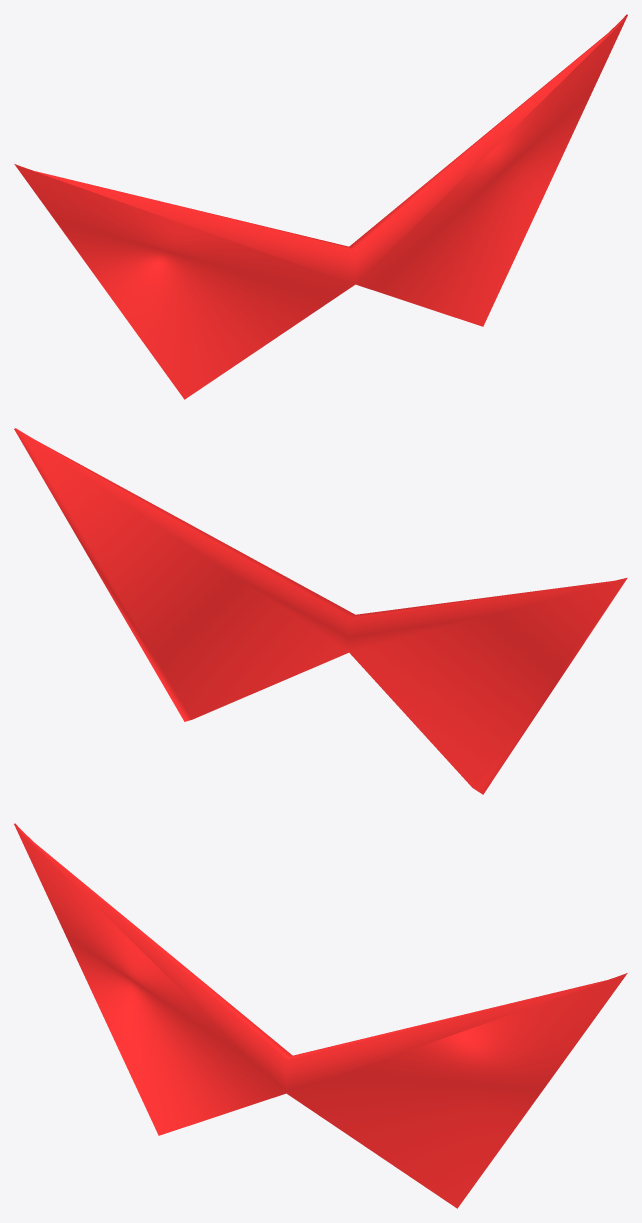
The model's file is accessory-punk_glasses.glb.
The picture shows the model from 3 angles, top to bottom: view 1: azimuth 30°, elevation 25°; view 2: azimuth 150°, elevation 25°; view 3: azimuth 330°, elevation 25°; orthographic projection.
Parts seen in each view (by area): view 1: accessory__Cube__0; view 2: accessory__Cube__0; view 3: accessory__Cube__0.
Part boxes in pixels (bbox=[...]): accessory__Cube__0: bbox=[14, 14, 627, 399]; accessory__Cube__0: bbox=[14, 428, 627, 794]; accessory__Cube__0: bbox=[14, 823, 627, 1208].
Size of the model in its own units: 0.6824 by 0.2814 by 0.0677.
